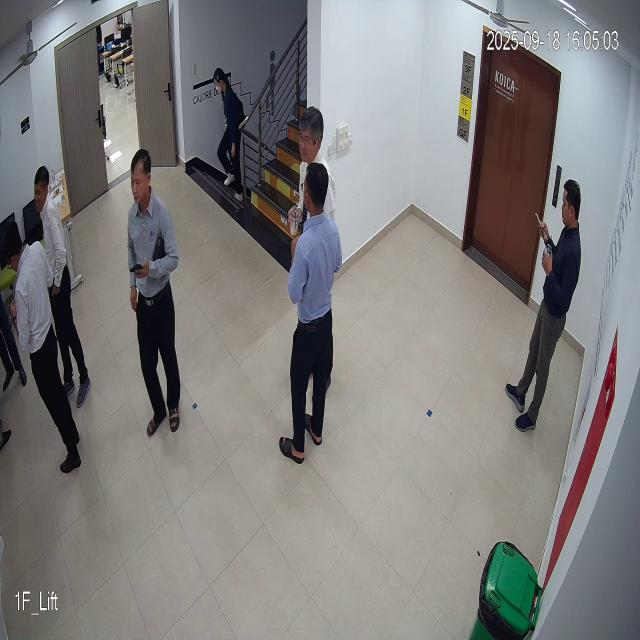face: (290, 103, 326, 168), (122, 144, 156, 212)
